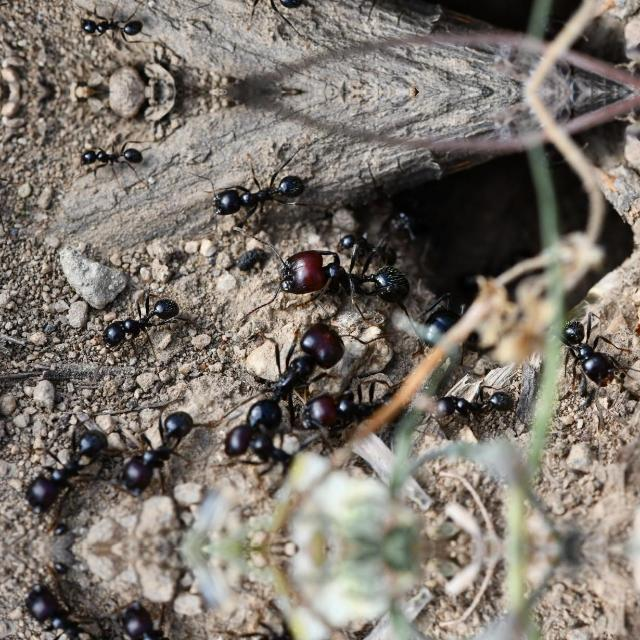Messor: (274, 244, 432, 322), (248, 316, 358, 428), (16, 420, 106, 512), (114, 407, 198, 499), (551, 307, 633, 399), (186, 162, 314, 218), (218, 421, 332, 483), (80, 289, 184, 356), (304, 380, 402, 438), (416, 379, 522, 429), (16, 583, 106, 640), (62, 130, 158, 180), (62, 2, 158, 52), (333, 218, 405, 268), (114, 597, 197, 640), (218, 613, 331, 640), (186, 0, 313, 20)
